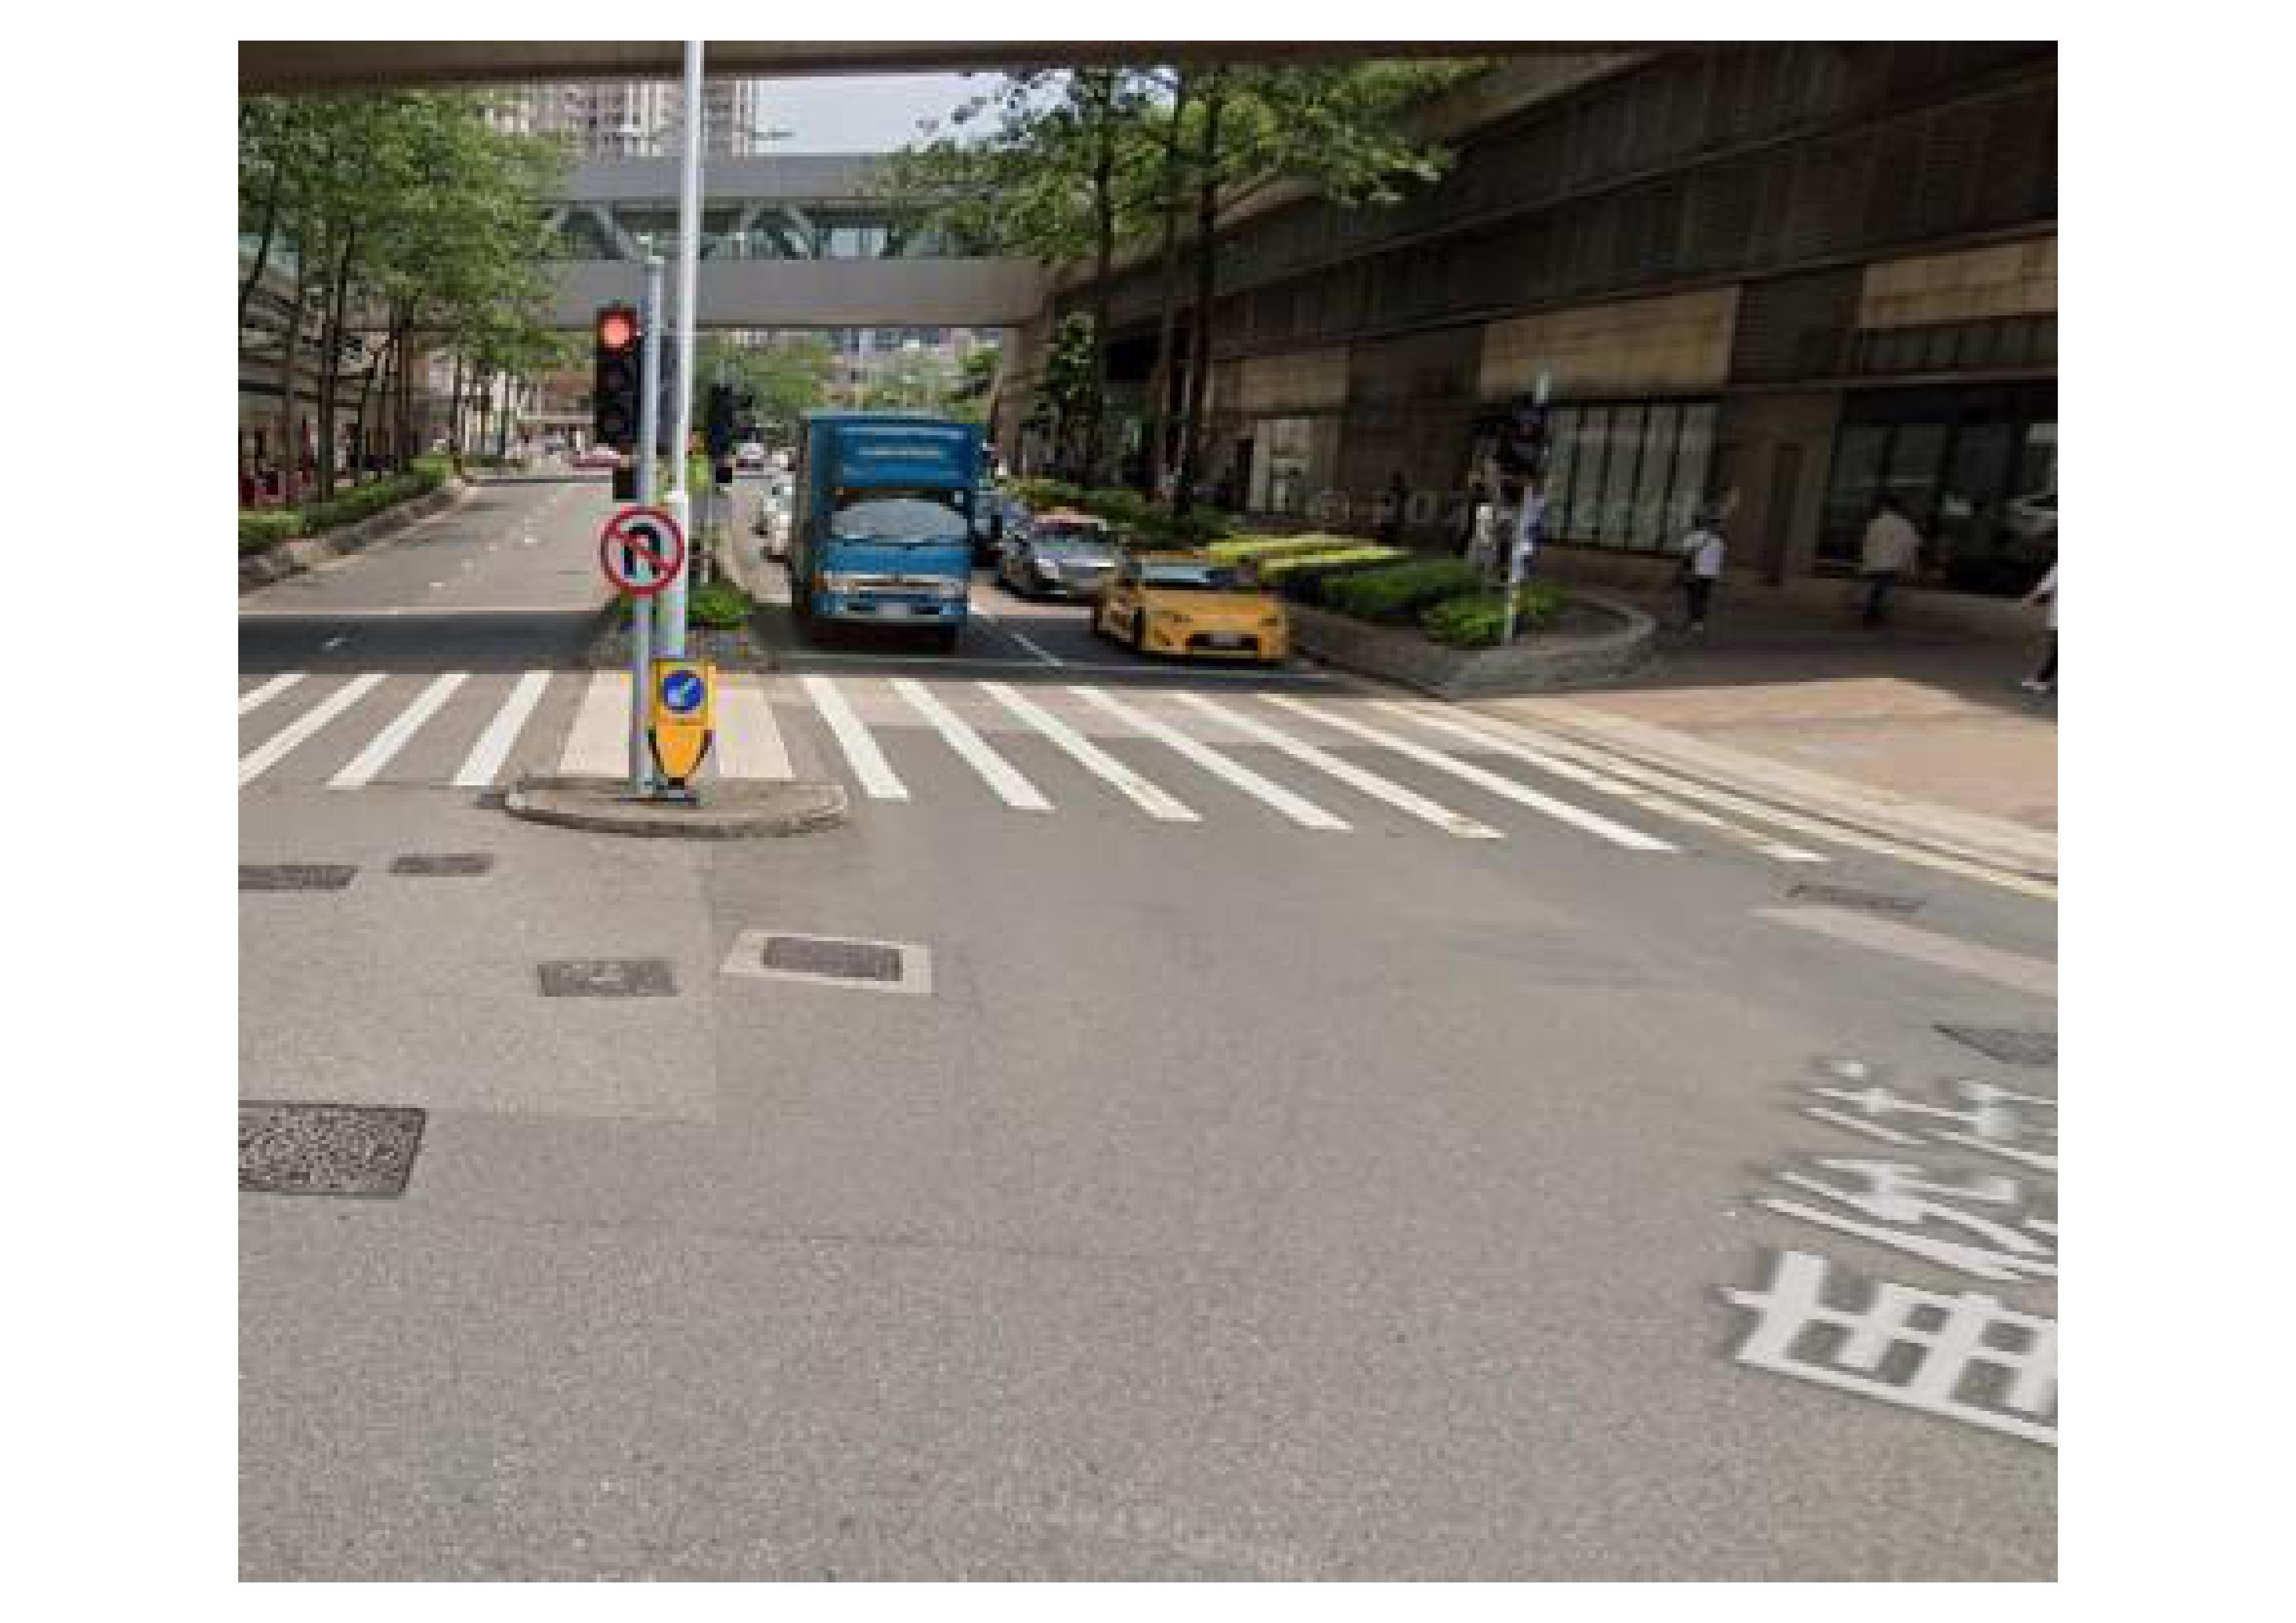No Uturn: (599, 511, 688, 599)
